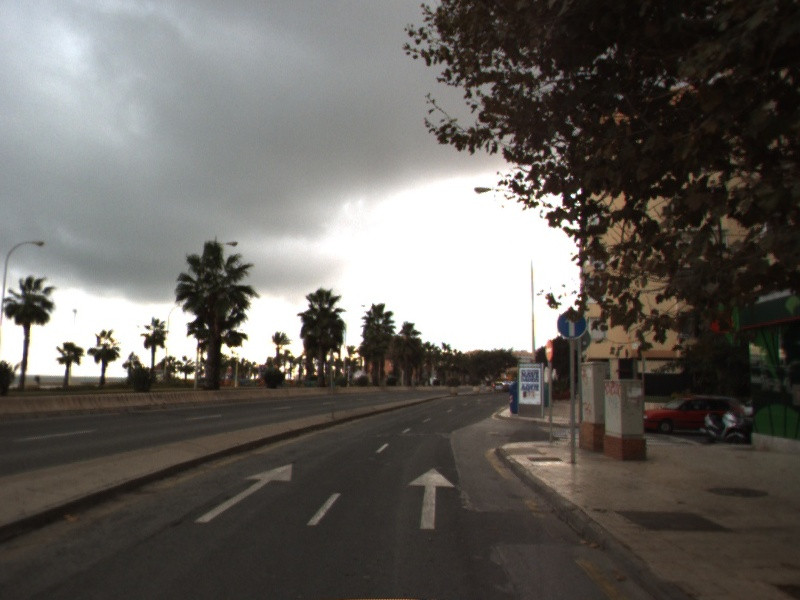STRAIGHT: (192, 462, 294, 524), (407, 466, 457, 530)
